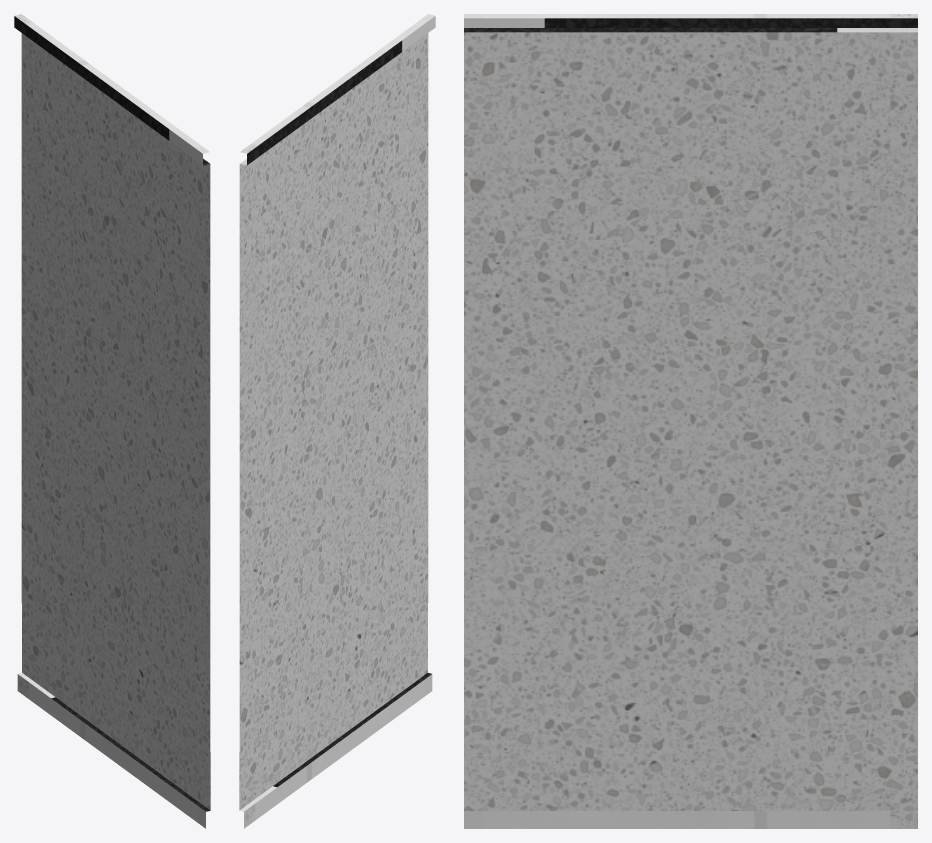
File: SM_Wall.fbx
3 renders of one model, left to right at view 1: azimuth 30°, elevation 25°; view 2: azimuth 150°, elevation 25°; view 3: azimuth 270°, elevation 25°, orthographic. The views are drawn at different scales.
Visible parts, largest first — view 1: Cube.006; view 2: Cube.006; view 3: Cube.006.
Boxes of the visible parts, x1,y1,x2,y2 form: Cube.006: (14,14,210,828); Cube.006: (239,14,435,828); Cube.006: (464,14,917,828).
Size of the model in its own units: 4.8 by 395 by 200.
